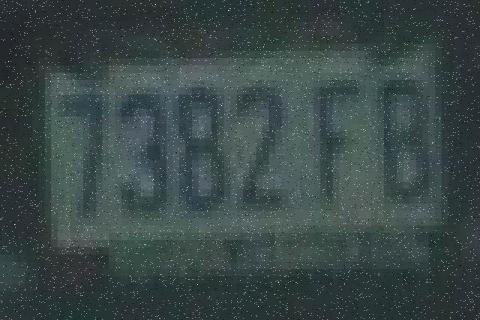LicensePlate: (47, 58, 462, 254)
